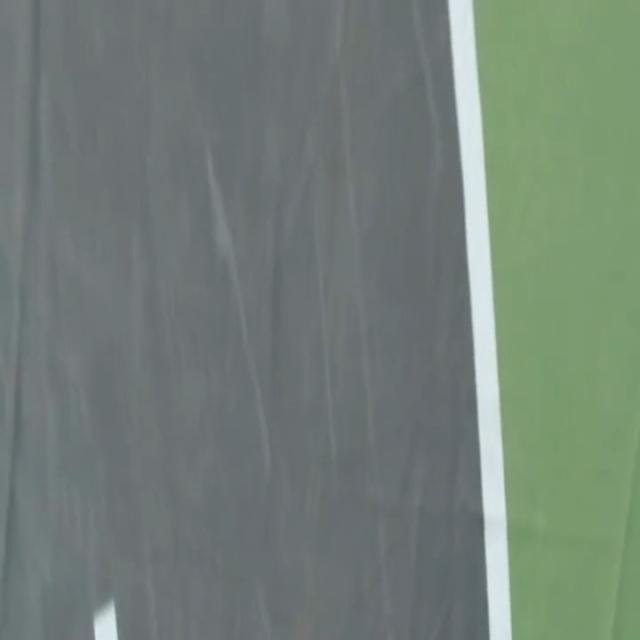center: (94, 600, 117, 639)
right: (448, 0, 511, 639)
